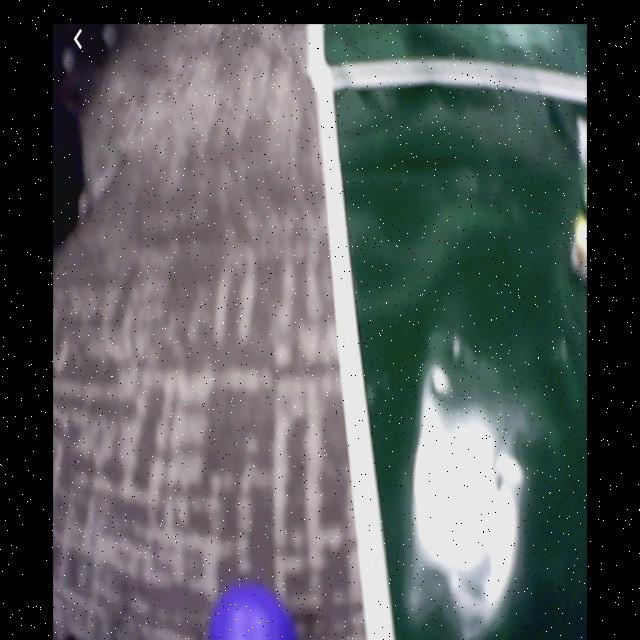ball: (208, 586, 293, 640)
